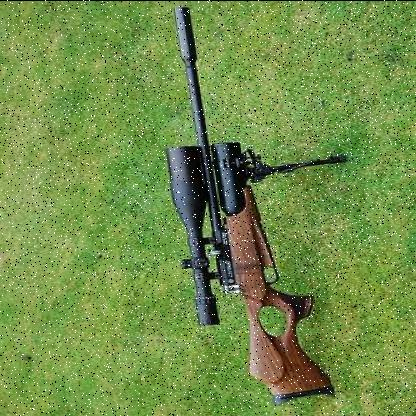rifle: (164, 1, 307, 416)
